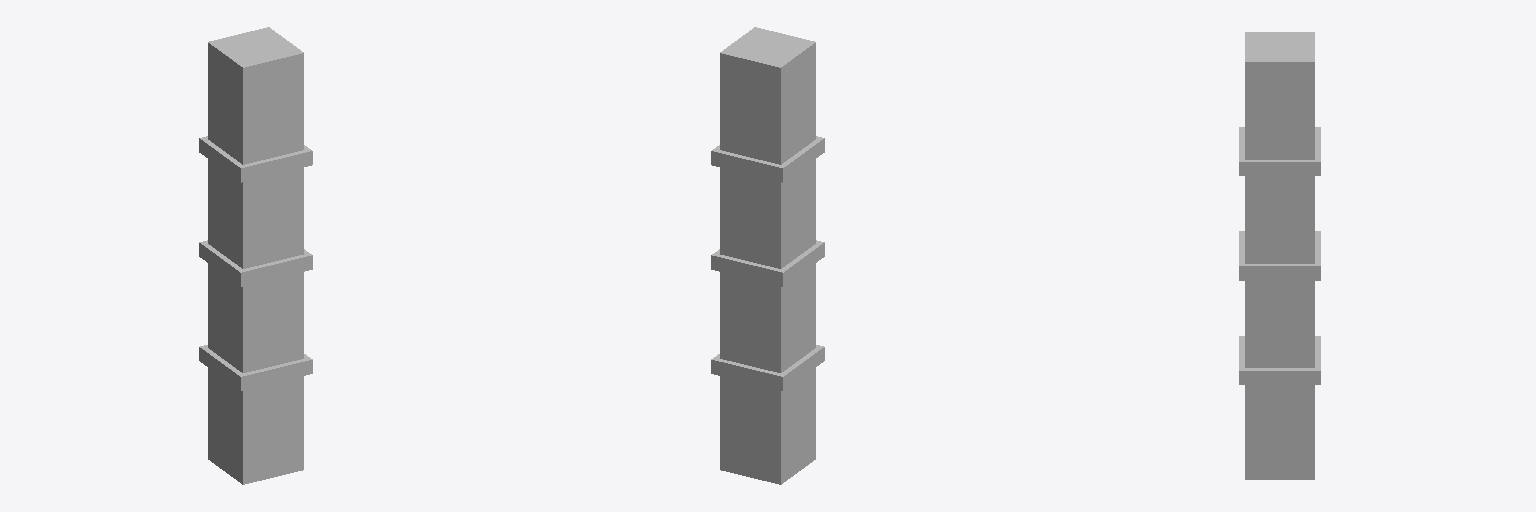
The model's file is weird_box.obj.
The picture shows the model from 3 angles: view 1: azimuth 30°, elevation 25°; view 2: azimuth 150°, elevation 25°; view 3: azimuth 270°, elevation 25°; orthographic projection.
Visible parts, largest first — view 1: Cube_Cube.001; view 2: Cube_Cube.001; view 3: Cube_Cube.001.
Part boxes in pixels (bbox=[...]): Cube_Cube.001: bbox=[199, 27, 312, 484]; Cube_Cube.001: bbox=[711, 27, 824, 484]; Cube_Cube.001: bbox=[1239, 32, 1320, 479].
Size of the model in its own units: 0.5852 by 3.25 by 0.5852.